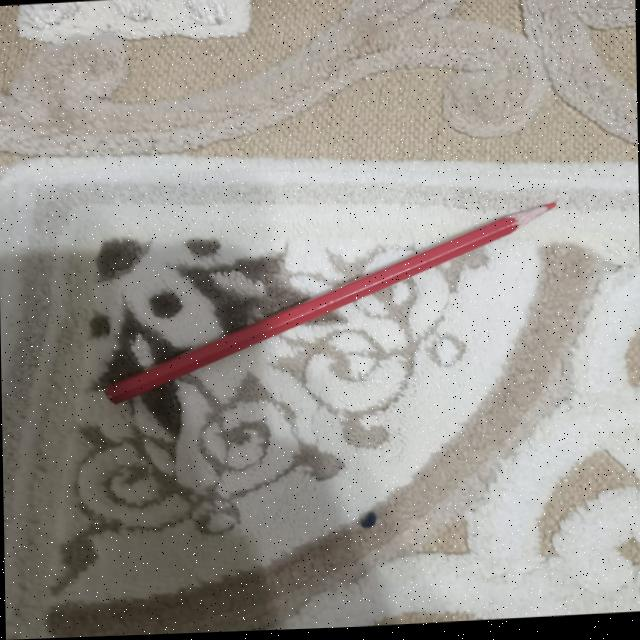pencil: (105, 206, 555, 404)
